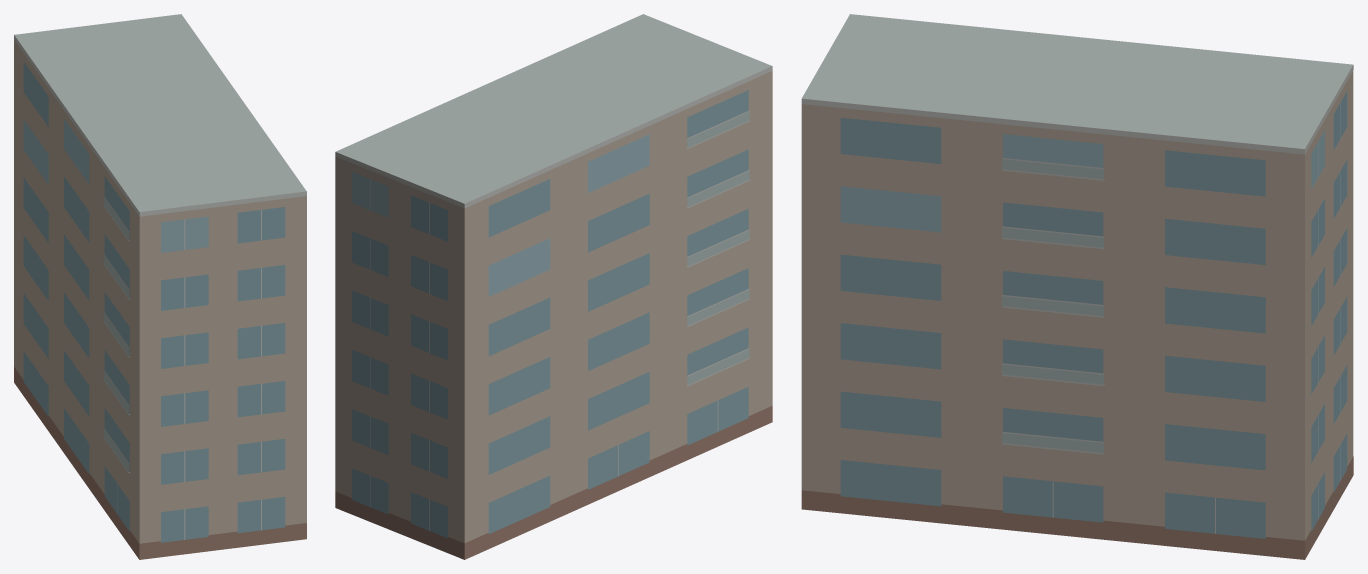
The model's file is survey-upis-32537869.glb.
3 renders of one model, left to right at view 1: azimuth 30°, elevation 25°; view 2: azimuth 150°, elevation 25°; view 3: azimuth 270°, elevation 25°, orthographic. The views are drawn at different scales.
Parts seen in each view (by area): view 1: survey-upis-32537869.tmp; view 2: survey-upis-32537869.tmp; view 3: survey-upis-32537869.tmp.
Part boxes in pixels (box(x1,y1,x2,y2)): survey-upis-32537869.tmp: box(14, 14, 306, 559); survey-upis-32537869.tmp: box(335, 14, 772, 559); survey-upis-32537869.tmp: box(801, 14, 1353, 559).
Bounding box in the file's own units: 13.14 × 18.6 × 22.66.
